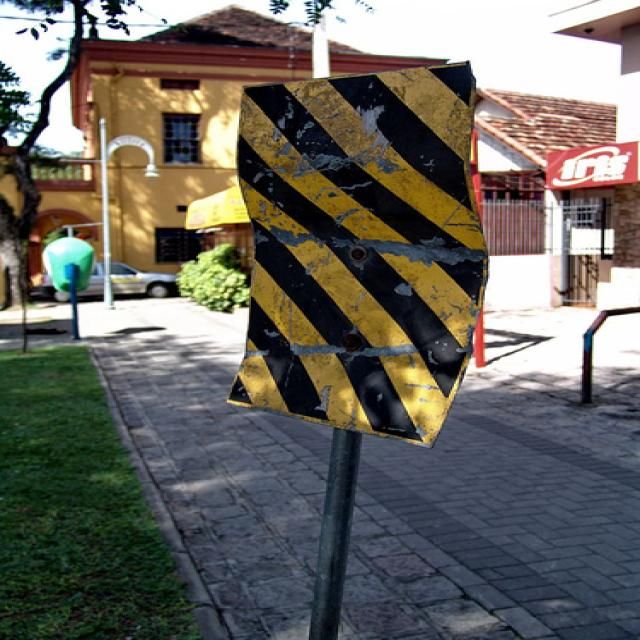Vehicle: (41, 262, 180, 303)
